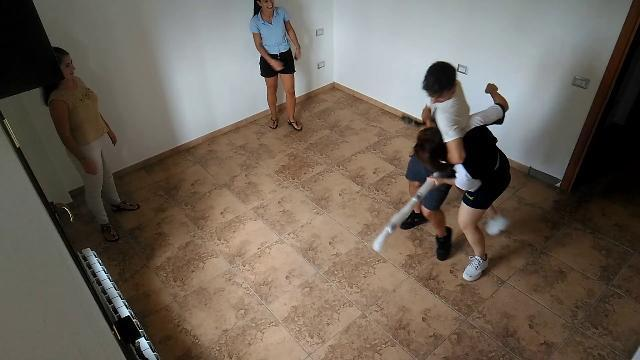non-violence: (40, 46, 142, 244), (247, 1, 305, 134)
violence: (374, 60, 514, 284)
weapon: (399, 112, 425, 128)
